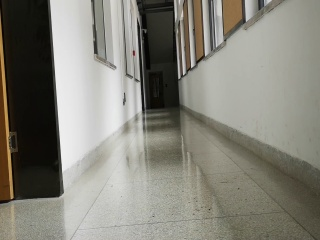room: (1, 1, 71, 212)
